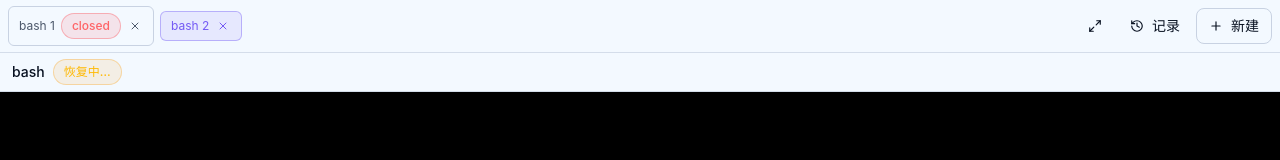
TerminalPanel › 已结束会话的标签可直接清除（不弹确认、不调 remove）
Expected: the element with test id "terminal-tabs" is shown, [0,0,1279,53]
Expected: the text "bash 2" is shown, [171,18,209,34]
Note: 终态标签显示清除按钮，点击后标签消失，剩余标签重新编号
Click the button named "清除终端 bash 1" at (135, 26), box [129,20,141,32]
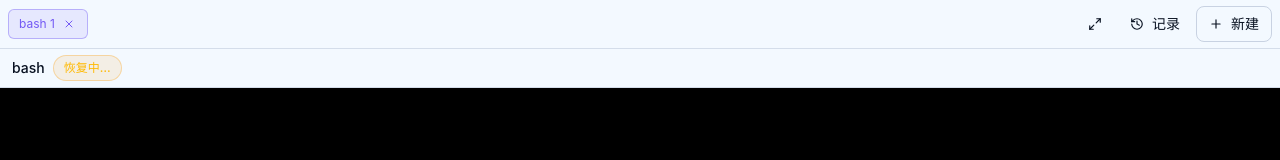
Now the tab "bash 2" is gone
Now the text "bash 1" is shown, box [19,16,55,32]
